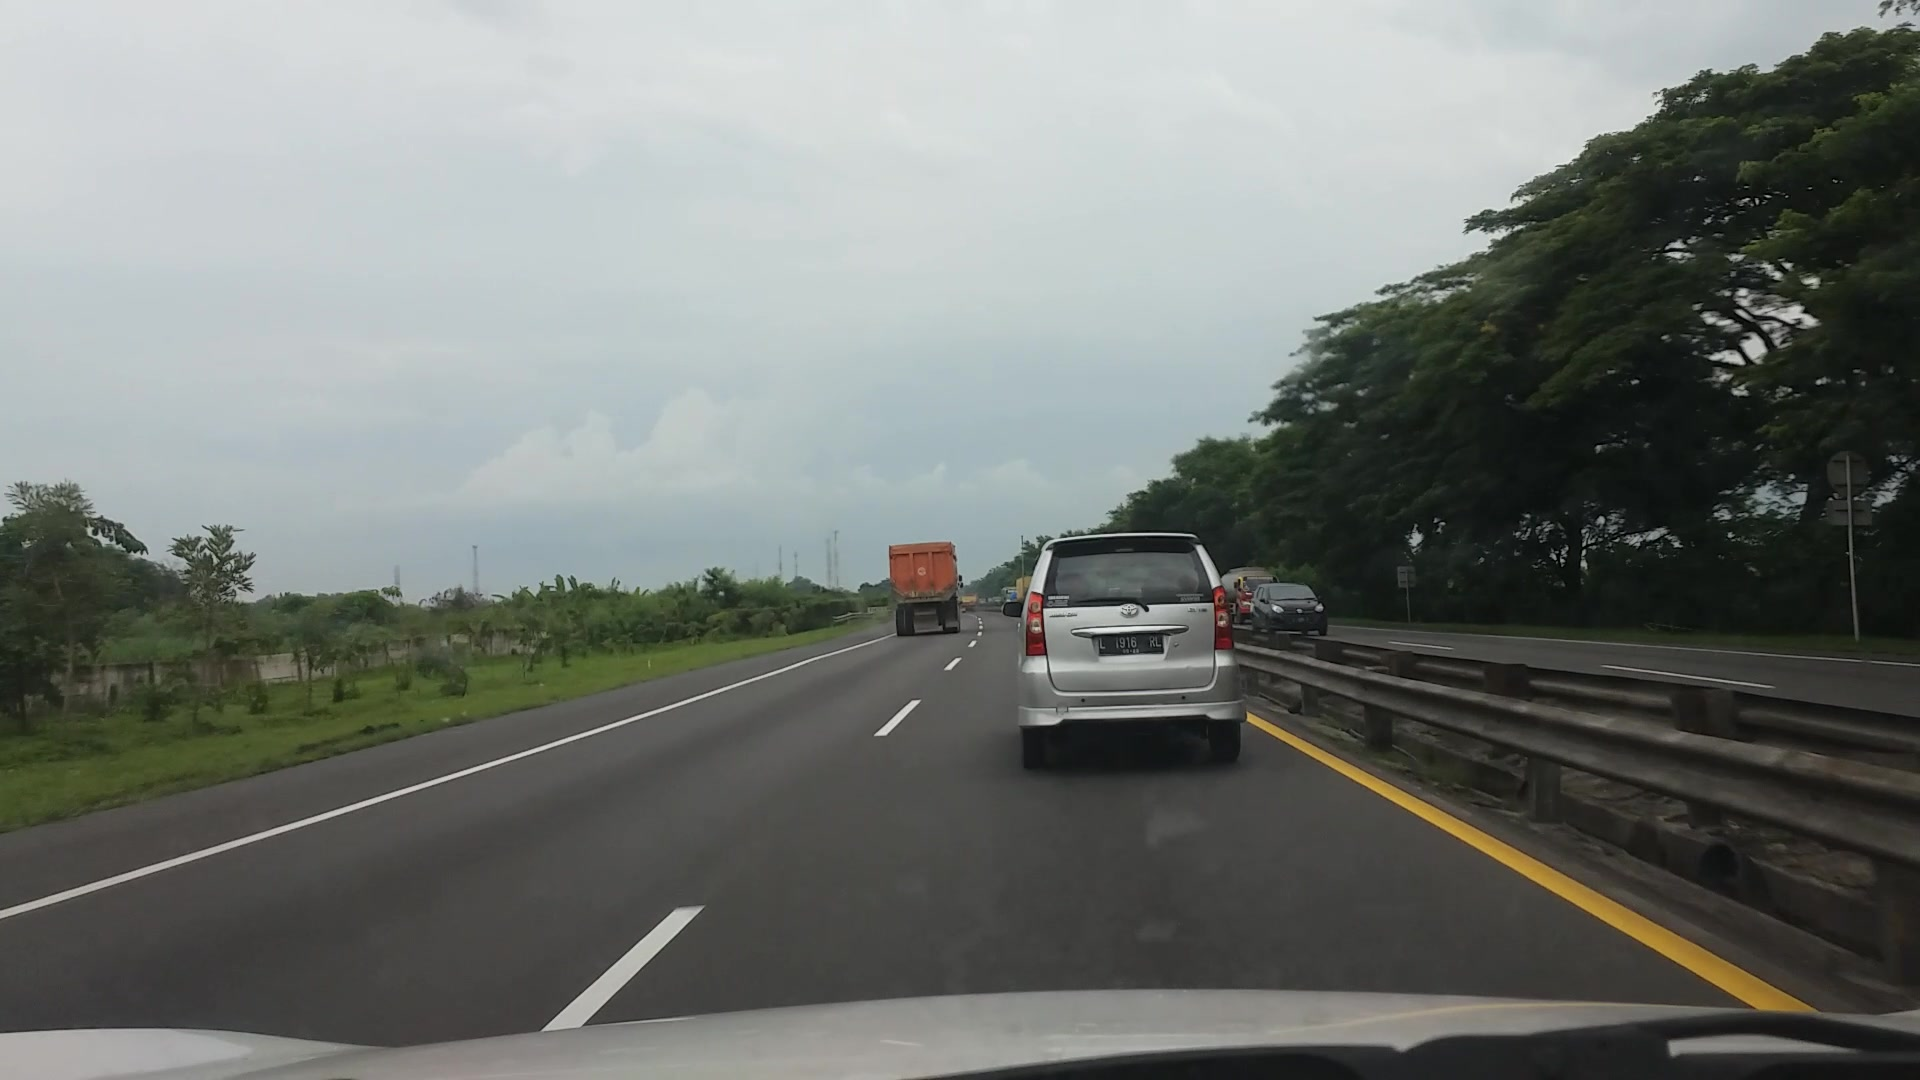plate_positive: (1098, 633, 1164, 655)
